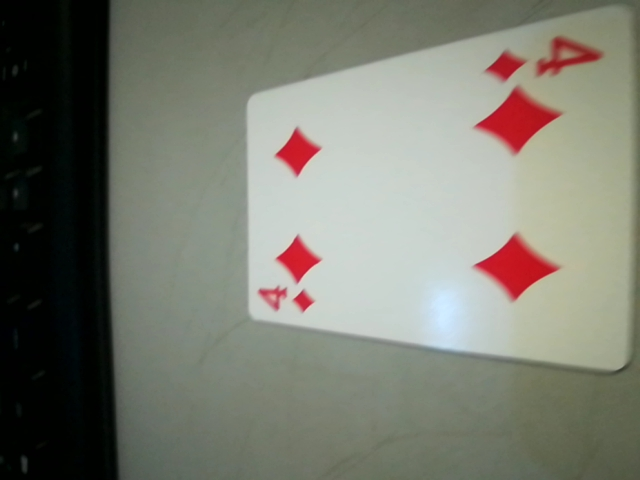fk 4: (474, 27, 615, 95)
